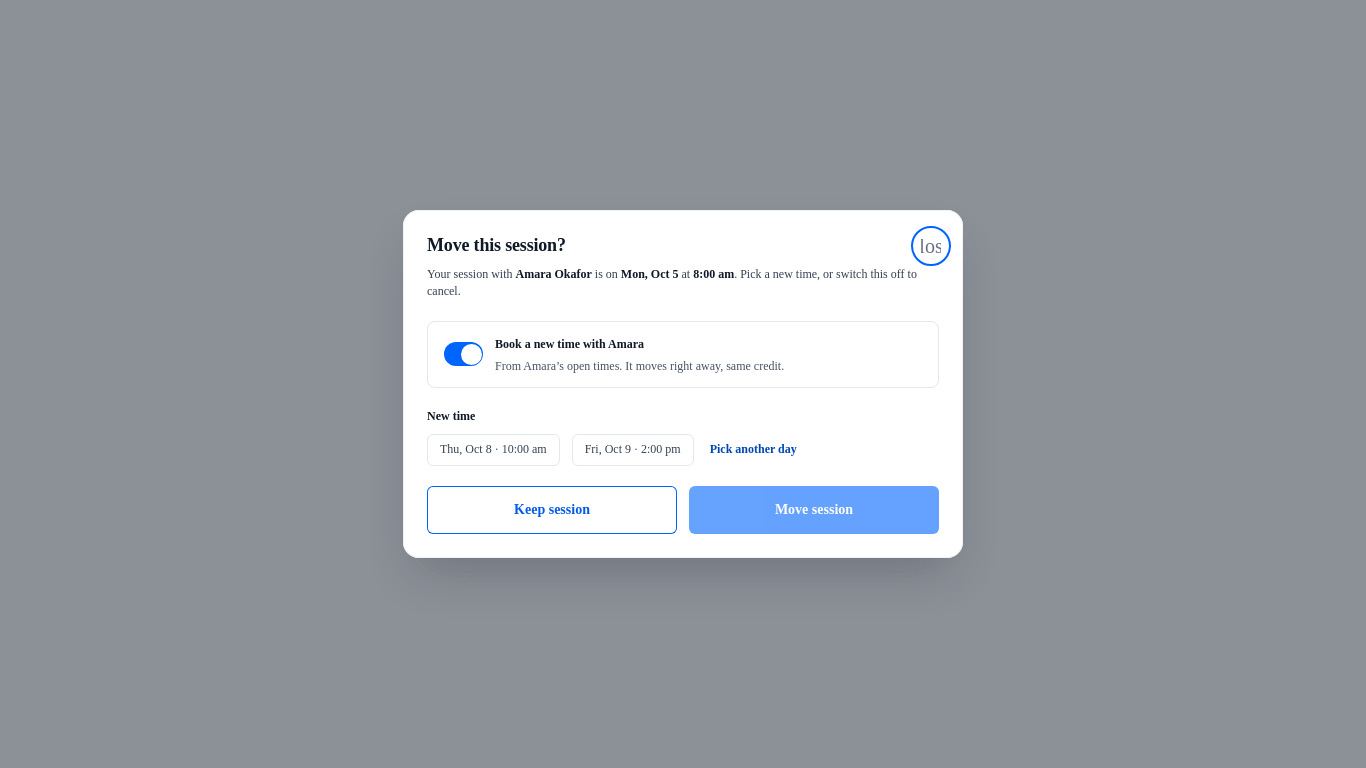
picking a time and the message › no message box until a time is picked; then the drafted message, max 500
This screenshot has width=1366, height=768.
Click the radio button labelled "Thu, Oct 8 · 10:00 am": x=493, y=450 [427,434,560,466]
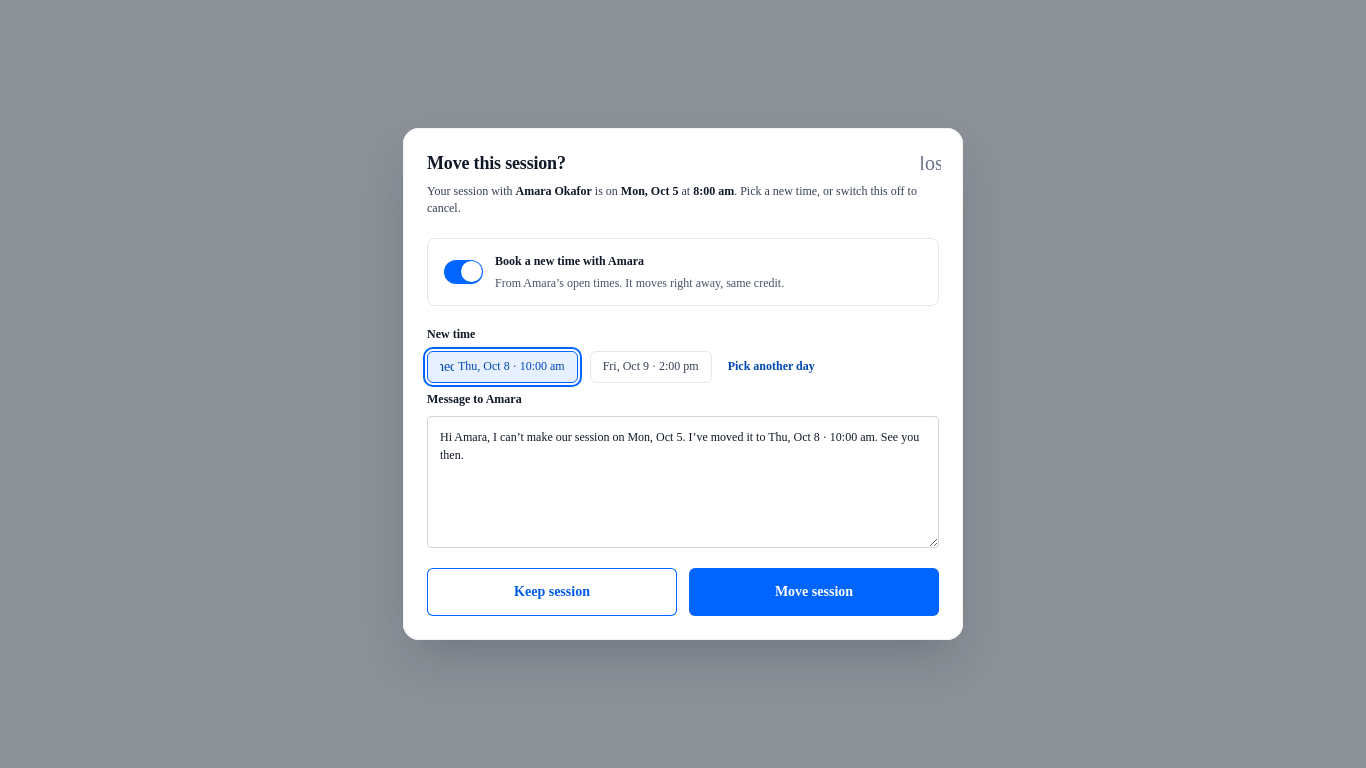
Check: the text box labelled "Message to Amara" holds "Hi Amara, I can’t make our session on Mon, Oct 5. I’ve moved it to Thu, Oct 8 · 10:00 am. See you then.", box [427,416,939,548]
